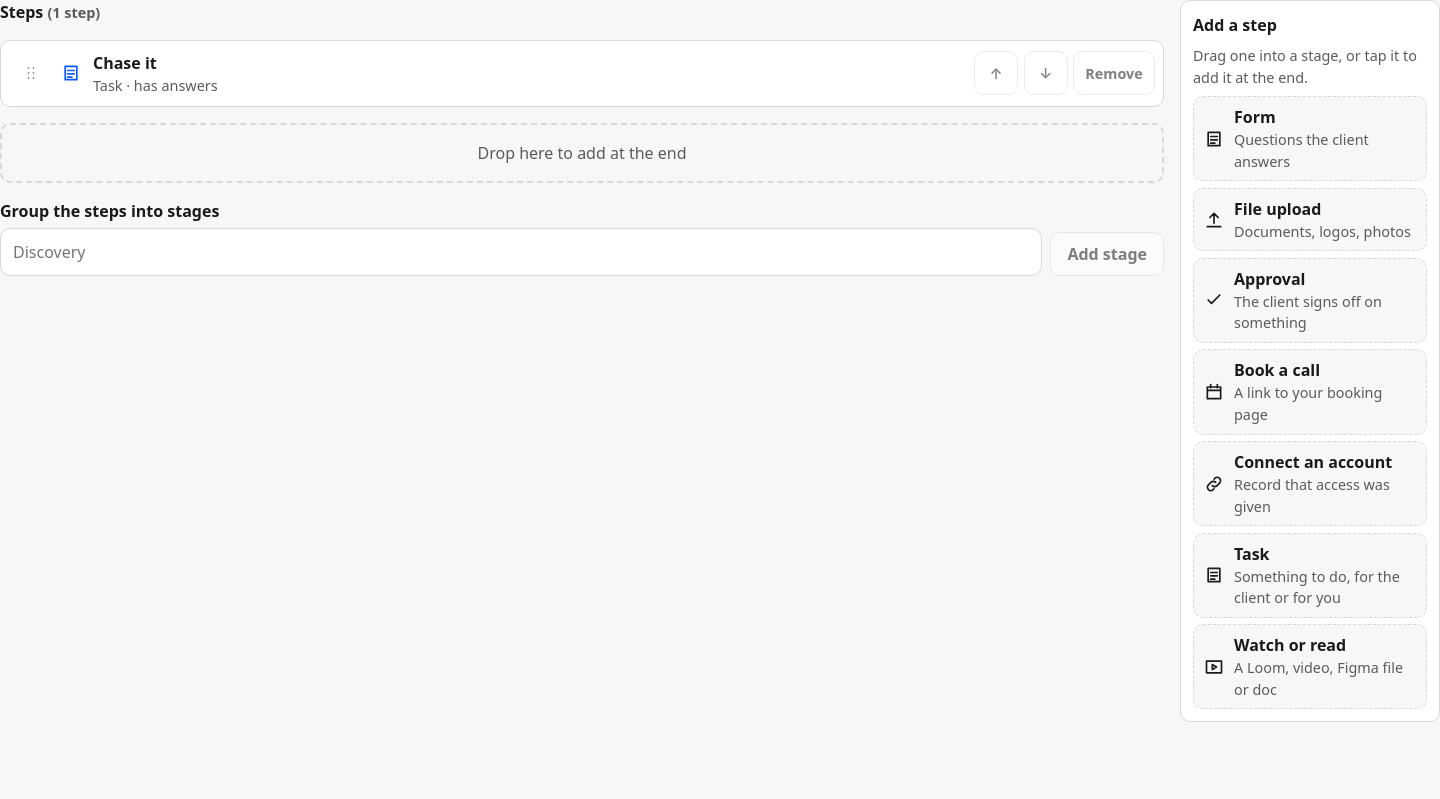
Test: choosing who a task is for › a task that has answers keeps its audience
Click the button "Chase it Task · has answers". click: coordinates (125, 63)
box: [89, 47, 966, 100]
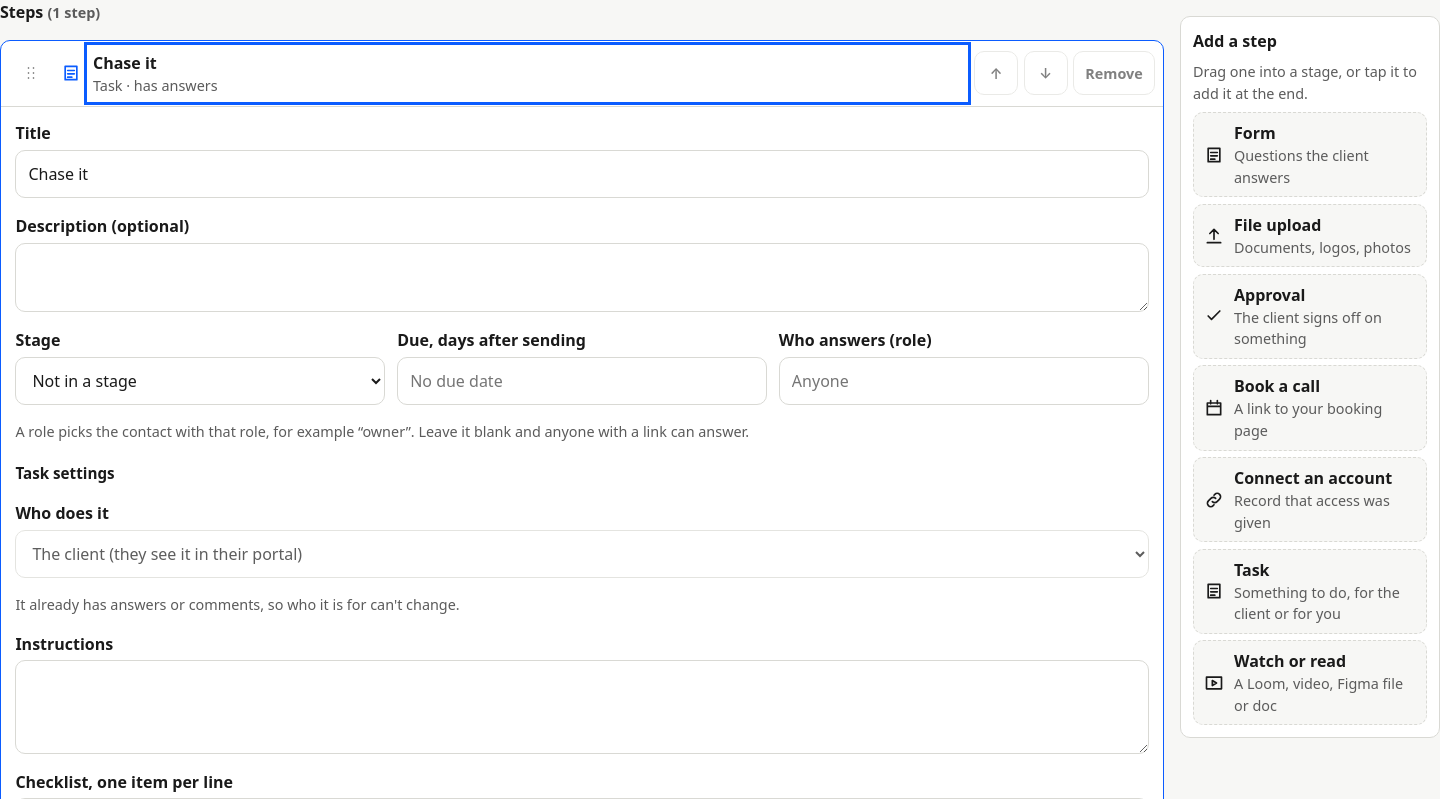
Result: the dropdown labelled "Who does it" is disabled at [15, 530, 1149, 578]
